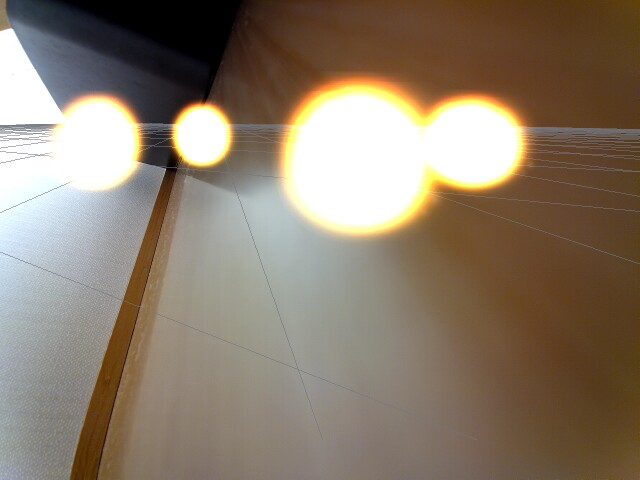fire: (281, 83, 436, 240), (427, 97, 531, 192), (50, 92, 143, 192), (170, 101, 233, 168)
